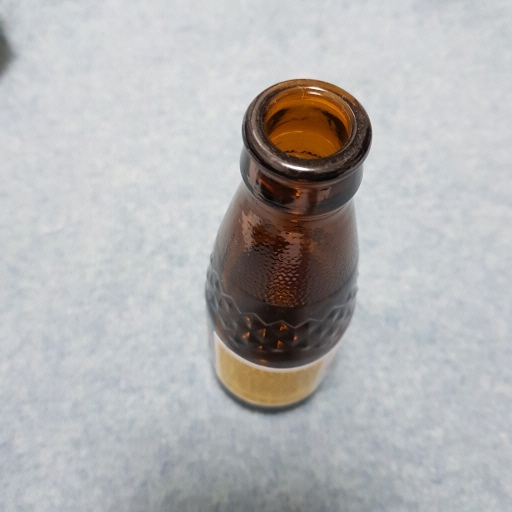Glass_3: (203, 77, 372, 416)
